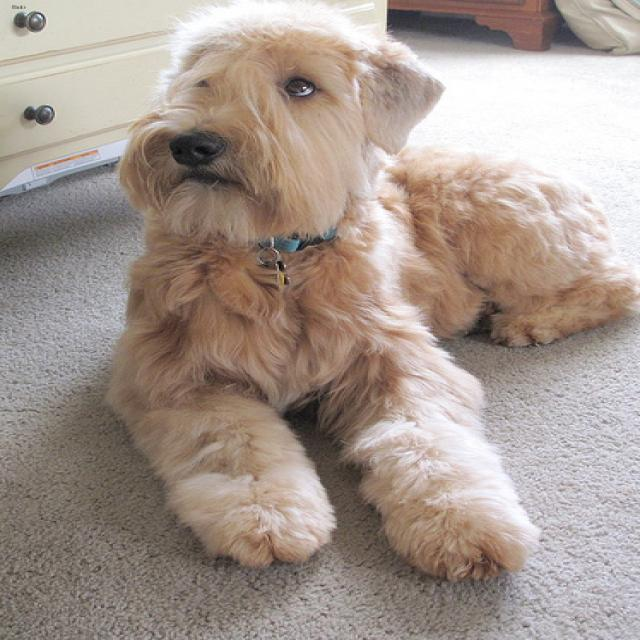dog-wheaten_terrier: (89, 1, 637, 591)
